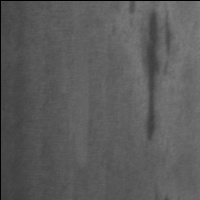inclusion: (137, 5, 176, 145)
